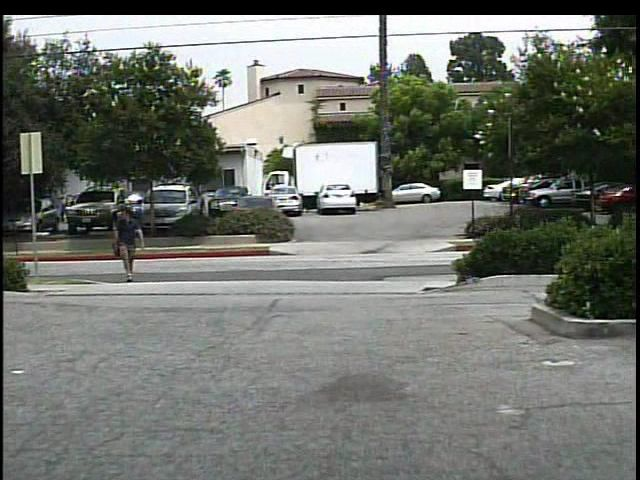person: (111, 205, 147, 284)
